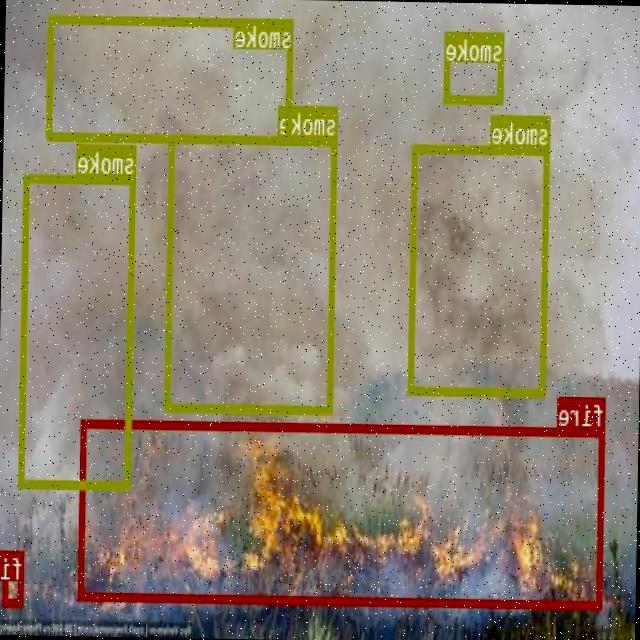fire: (79, 418, 606, 608), (3, 548, 24, 604)
smoke: (165, 134, 338, 412), (19, 172, 137, 488), (409, 142, 551, 396), (47, 13, 294, 142), (444, 31, 506, 102)
